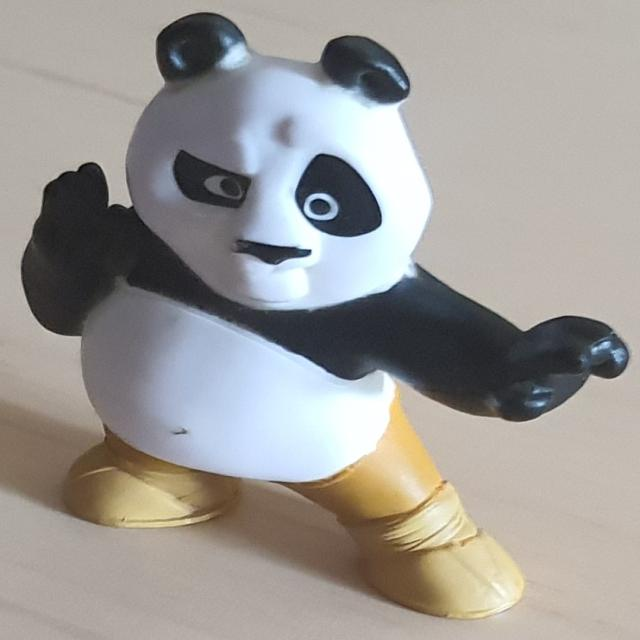Panda: (20, 11, 630, 620)
